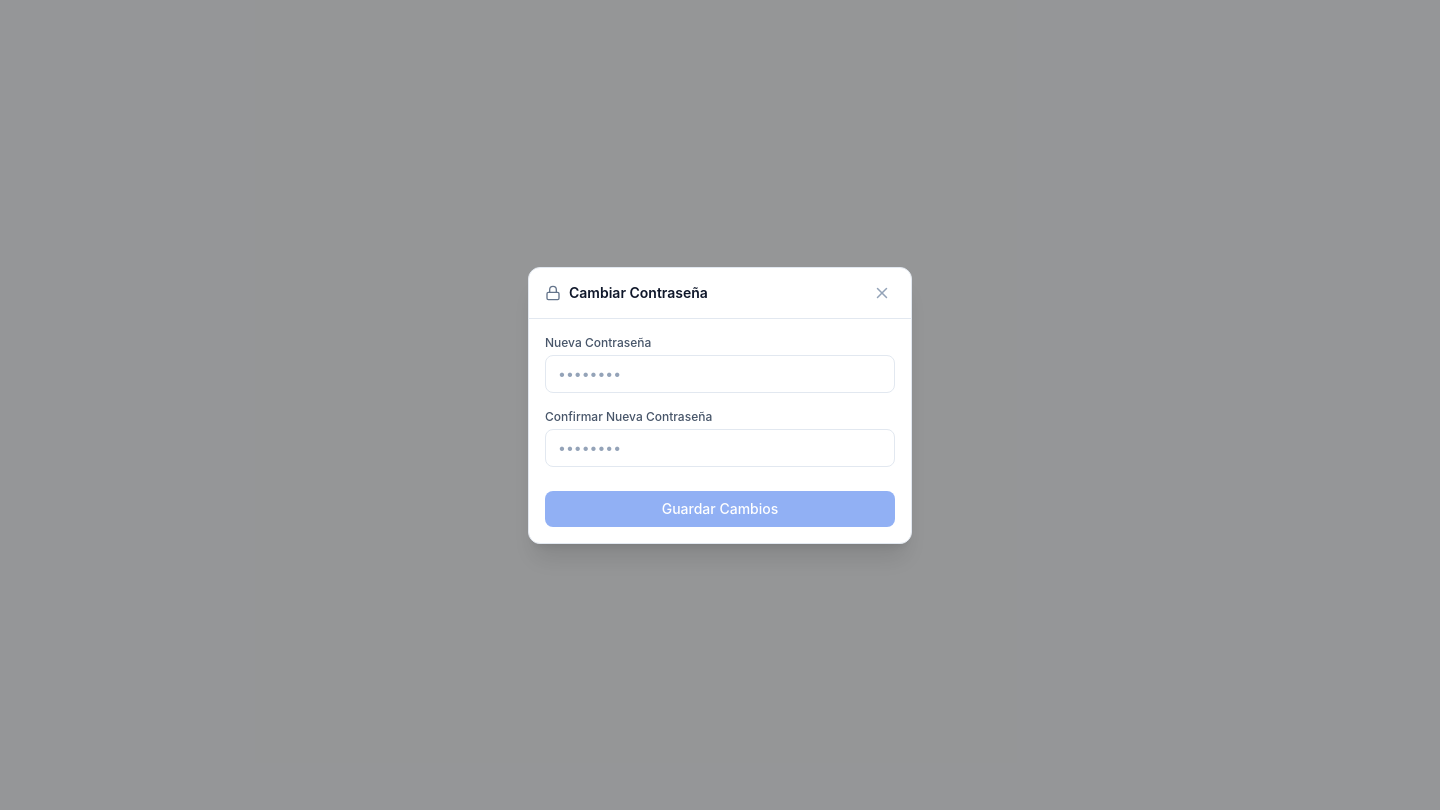
Test case: ChangePasswordModal › should handle API error
Type "validpass123" into the 1st password field with placeholder "••••••••" at (720, 374), box [545,354,895,392]
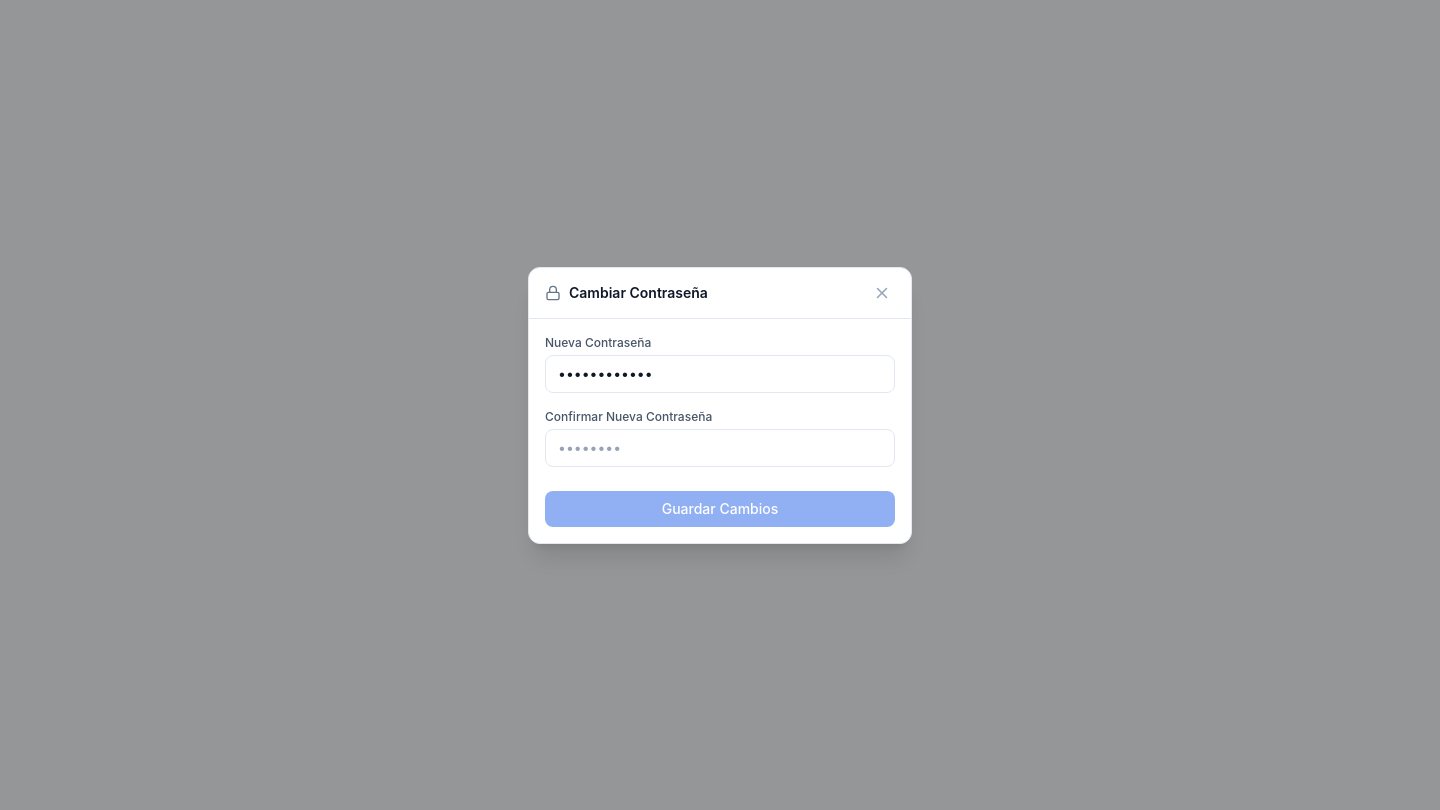
Type "validpass123" into the password field with placeholder "••••••••" at (720, 448), box [545,428,895,466]
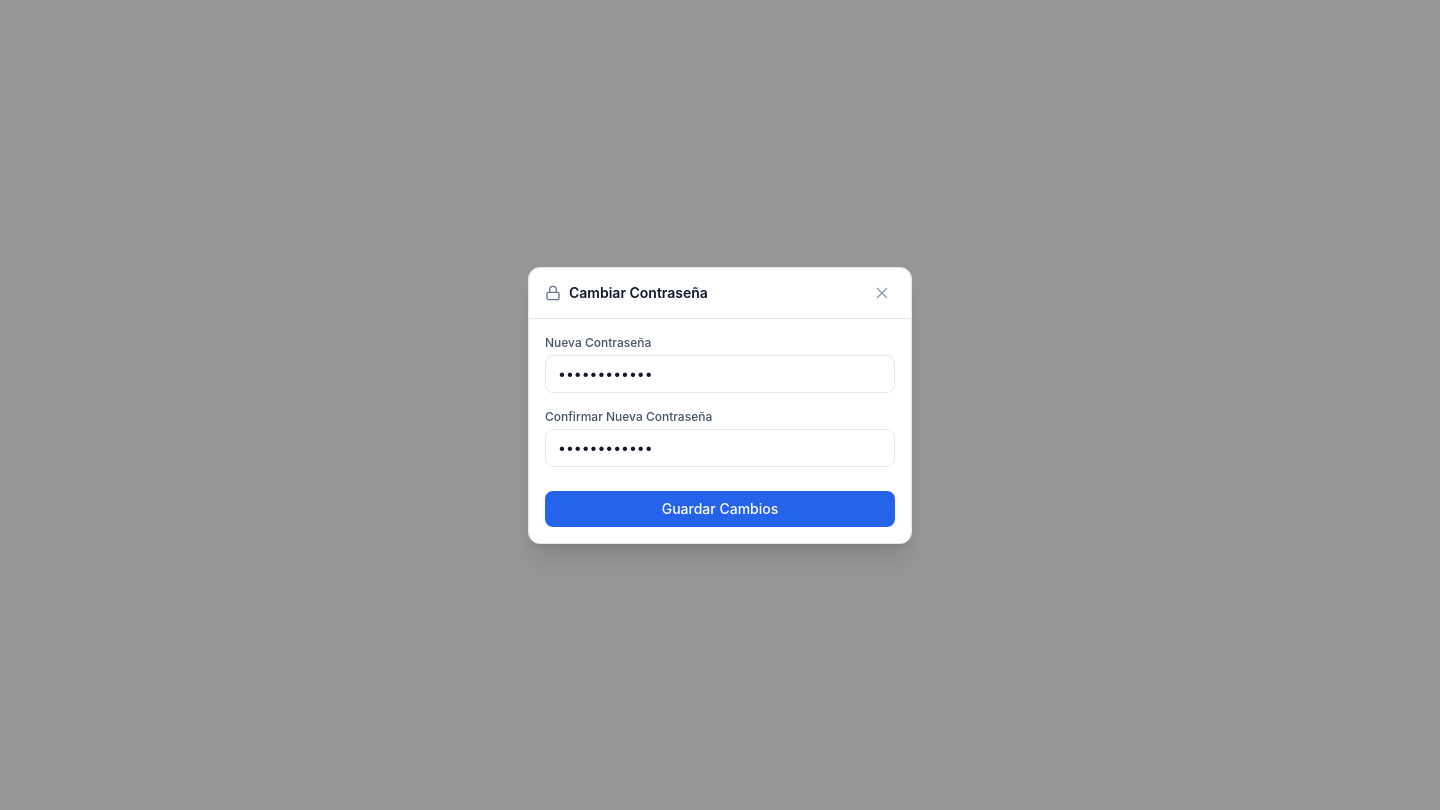
Click the button "Guardar Cambios" at (720, 508), box [545,490,895,526]
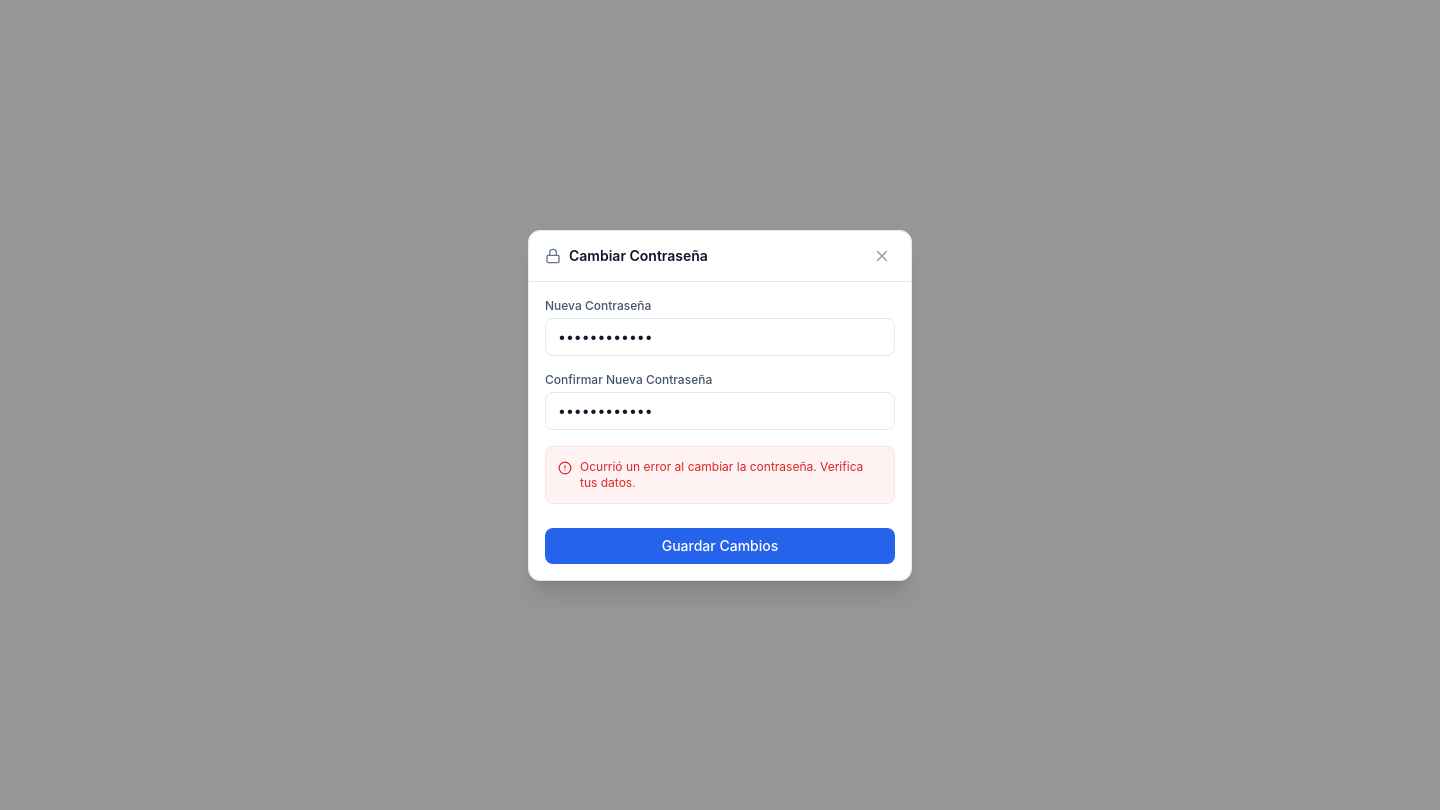
Check: the text "Ocurrió un error" is shown, box [580,458,863,490]
